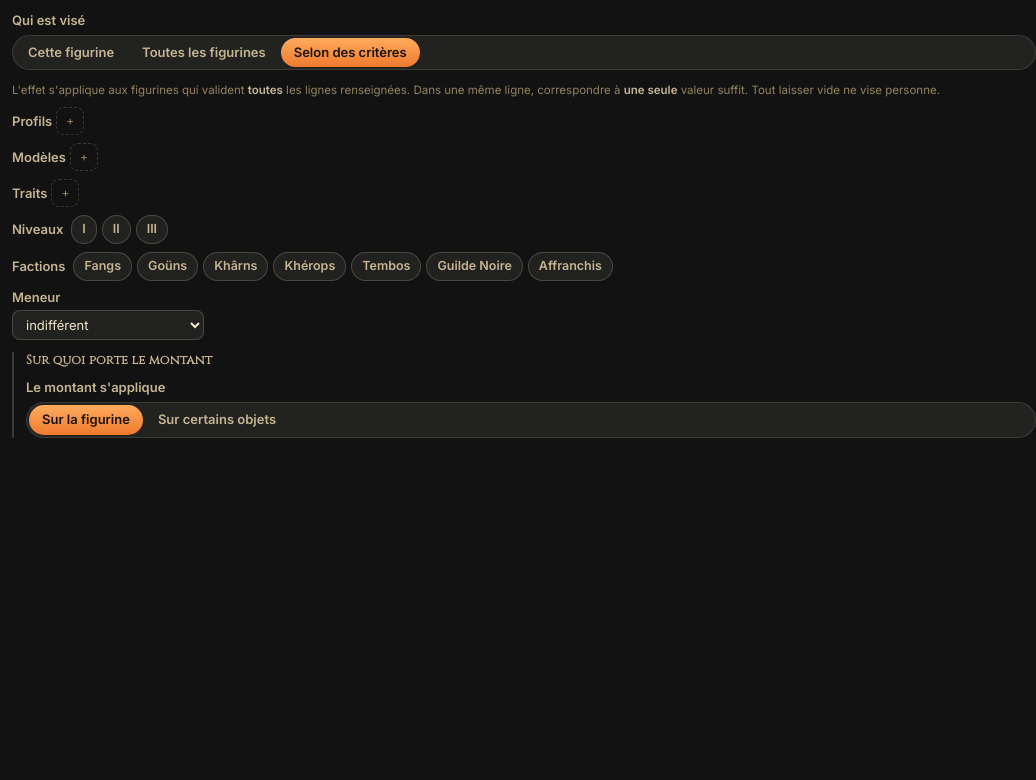
SelectorEditor - la position décide des champs › replie le filtre d'équipement par défaut, et l'ouvre sur demande
Expected: the text "Objets précis" is not shown
Click the radio button labelled "Sur certains objets" at [217, 420], box x1=145 y1=405 x2=289 y2=435
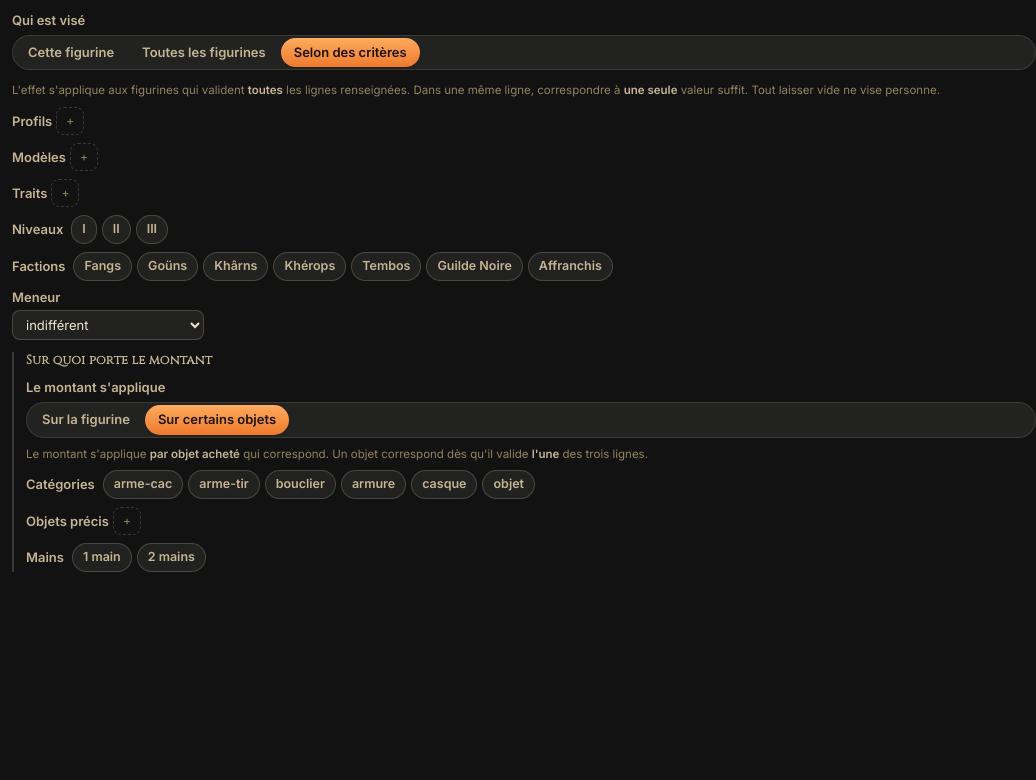
Result: the text "Objets précis" is shown at x1=26 y1=513 x2=109 y2=530
